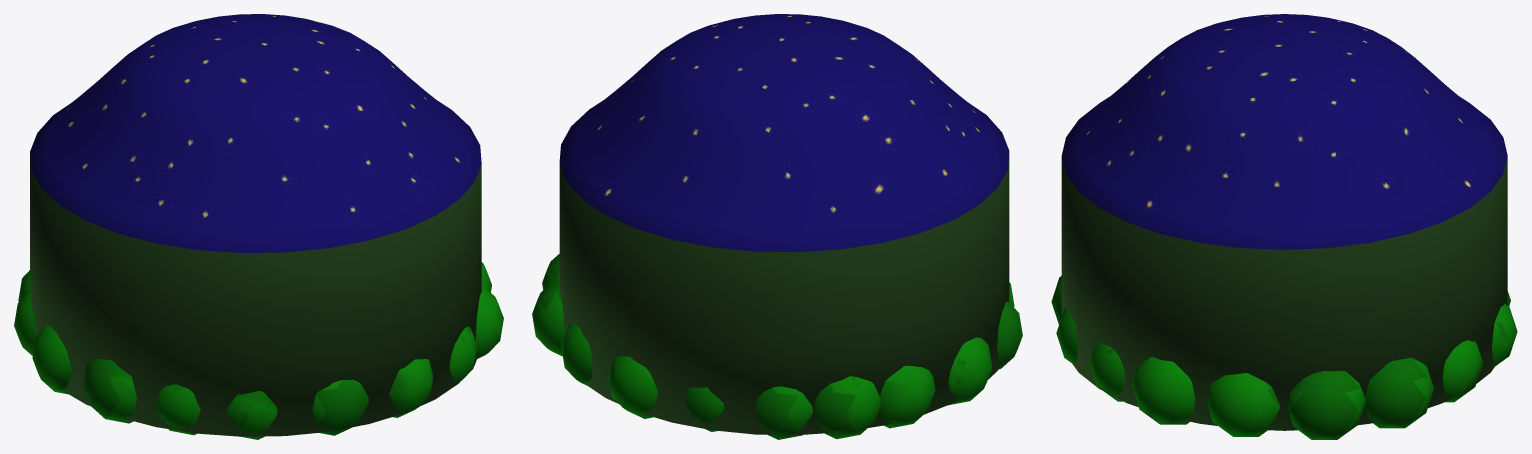
Rendered from ter.obj.
3 renders of one model, left to right at view 1: azimuth 30°, elevation 25°; view 2: azimuth 150°, elevation 25°; view 3: azimuth 270°, elevation 25°, orthographic.
Parts seen in each view (by area): view 1: Circle; view 2: Circle; view 3: Circle.
Part boxes in pixels (<box>): Circle: <box>14,14,503,439</box>; Circle: <box>532,14,1022,439</box>; Circle: <box>1051,14,1517,439</box>.
Size of the model in its own units: 11.62 by 8.13 by 11.17.
